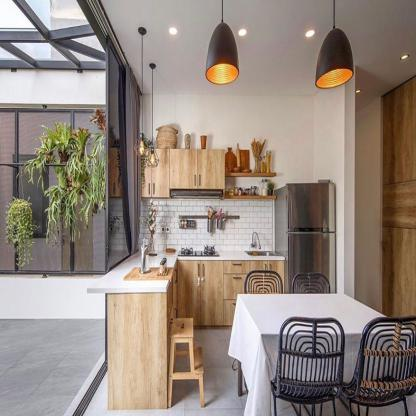kursi: (273, 315, 343, 416), (351, 318, 416, 416)
lampu: (304, 2, 356, 87), (198, 1, 250, 85)
tanaman: (42, 132, 101, 224)
